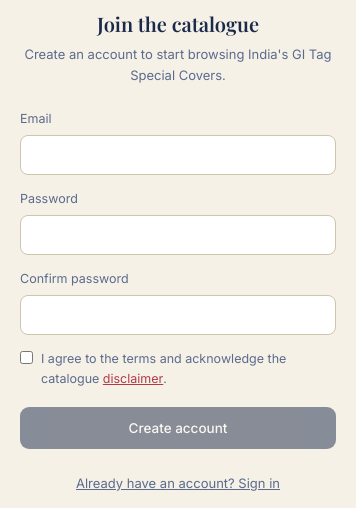
Scenario: Signup › shows the same check-your-email state even when the account already existed — matches signUp()'s own anti-enumeration shape, not distinguished client-side
This screenshot has width=356, height=508.
Type "new@example.test" into the field labelled "Email" at (178, 155), box top-left (20, 135), bottom-right (336, 175)
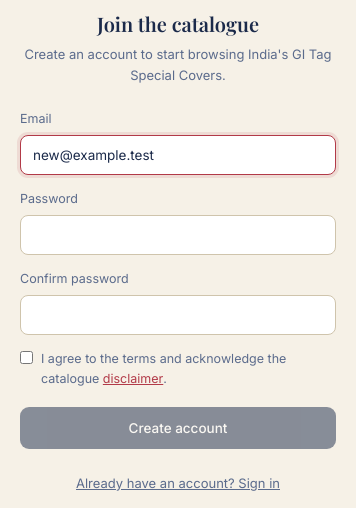
Type "a-real-password" into the password field labelled "Password" at (178, 235), box top-left (20, 215), bottom-right (336, 255)
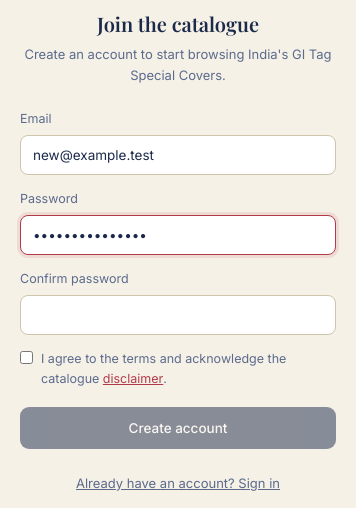
Type "a-real-password" into the password field labelled "Confirm password" at (178, 315), box top-left (20, 295), bottom-right (336, 335)
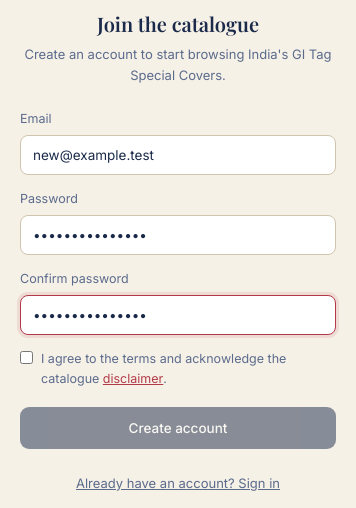
Click the checkbox at (26, 358), box top-left (20, 351), bottom-right (33, 364)
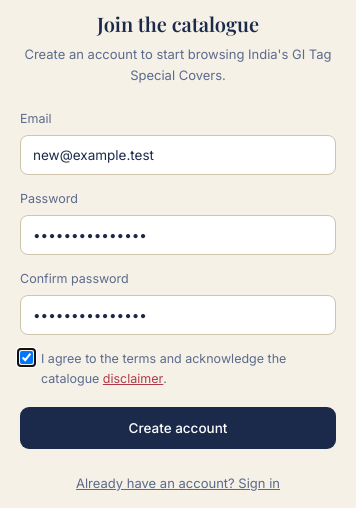
Click the button "Create account" at (178, 428), box top-left (20, 407), bottom-right (336, 449)
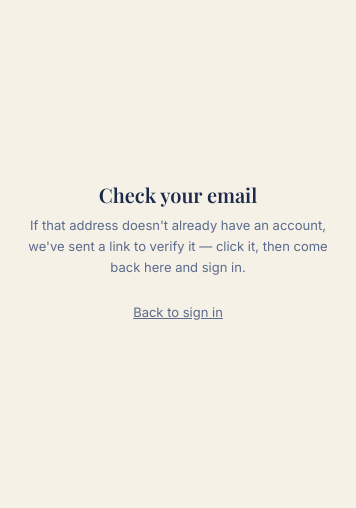
Result: the heading "Check your email" is shown at top-left (99, 181), bottom-right (257, 208)
